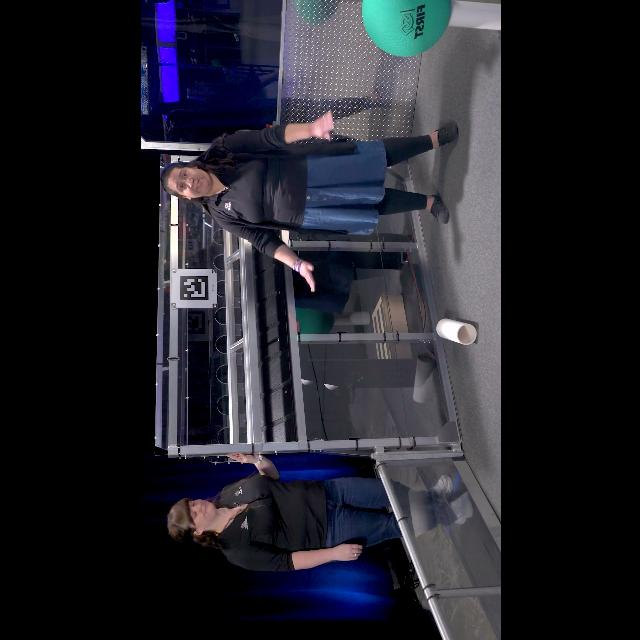ALGAE: (361, 0, 450, 56)
CORAL: (448, 1, 500, 32), (436, 318, 476, 346)
